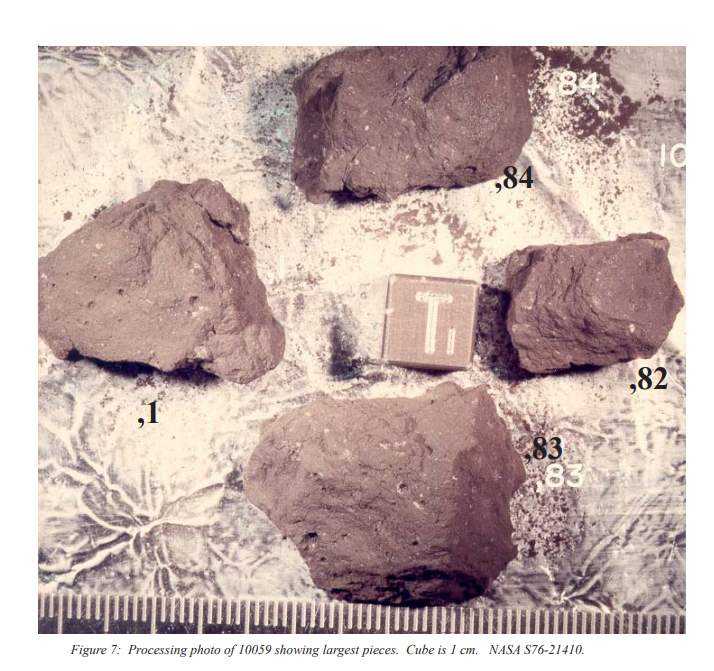Breccia: (230, 392, 538, 605), (37, 175, 304, 398), (256, 48, 571, 214), (496, 255, 704, 366)
